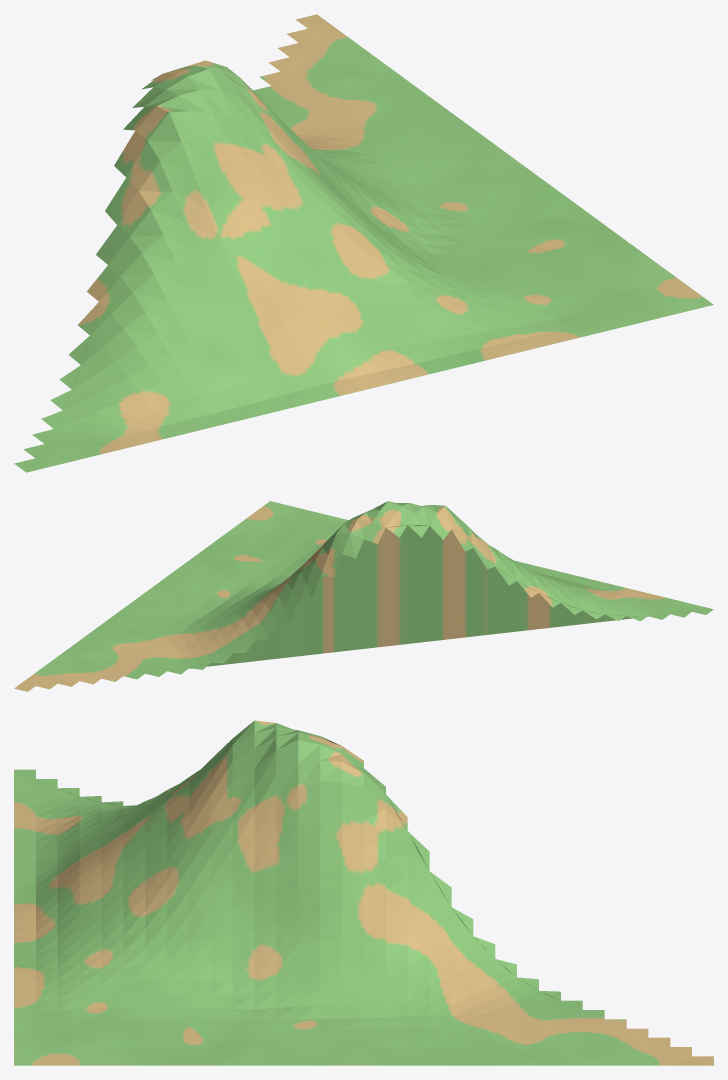
The model's file is Grass_Hills_03_NE.obj.
The picture shows the model from 3 angles, top to bottom: view 1: azimuth 30°, elevation 25°; view 2: azimuth 150°, elevation 25°; view 3: azimuth 270°, elevation 25°; orthographic projection. The views are drawn at different scales.
Bounding box in the file's own units: 10 × 2.8 × 10.
1 material, 1 textured.
